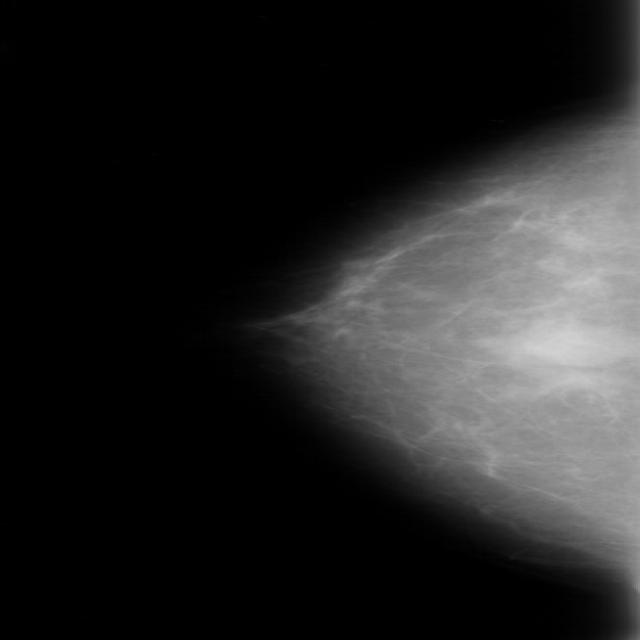tumour: (516, 315, 632, 364)
